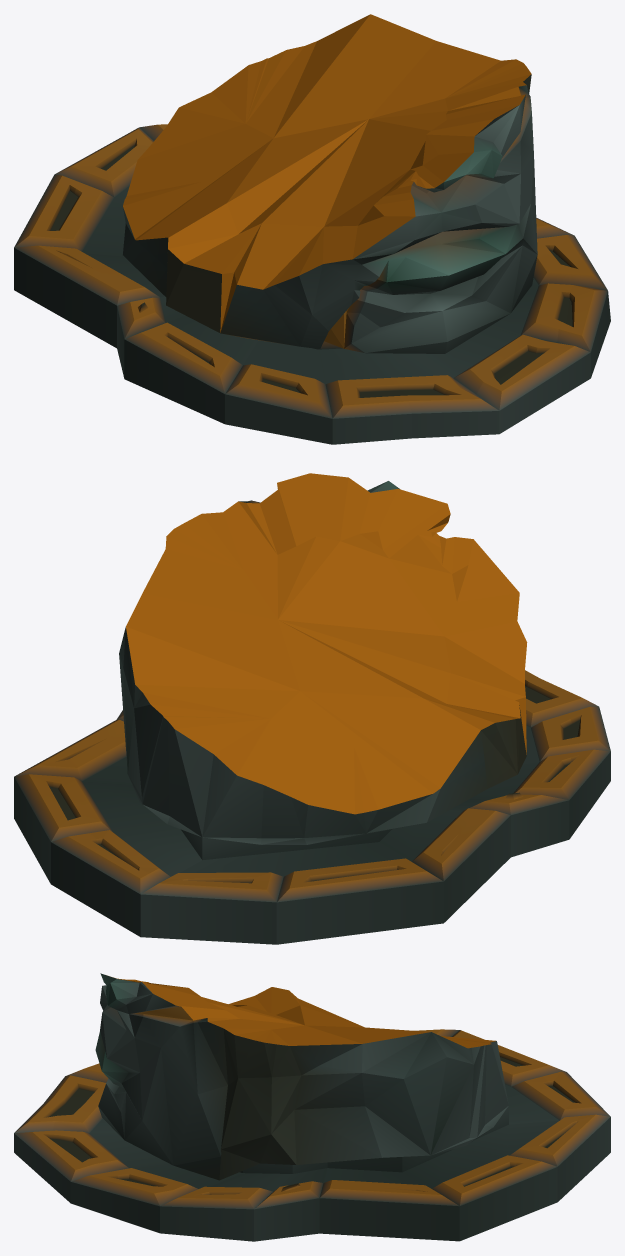
File: ENV_Totem_01_BrokenPiece_01.fbx
The picture shows the model from 3 angles, top to bottom: view 1: azimuth 30°, elevation 25°; view 2: azimuth 150°, elevation 25°; view 3: azimuth 270°, elevation 25°; orthographic projection. The views are drawn at different scales.
Parts seen in each view (by area): view 1: ENV_Totem_01_BrokenPiece_01; view 2: ENV_Totem_01_BrokenPiece_01; view 3: ENV_Totem_01_BrokenPiece_01.
Boxes of the visible parts, <box> form: ENV_Totem_01_BrokenPiece_01: <box>14,14,610,444</box>; ENV_Totem_01_BrokenPiece_01: <box>14,473,610,944</box>; ENV_Totem_01_BrokenPiece_01: <box>14,973,610,1241</box>.
Size of the model in its own units: 354 by 185 by 497.
